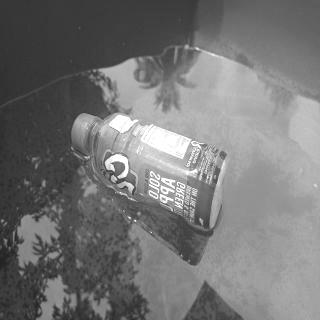bottle: (69, 109, 232, 232)
